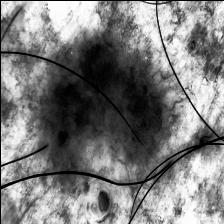Potentially Malignant Skin Tumors: (60, 44, 158, 150)
